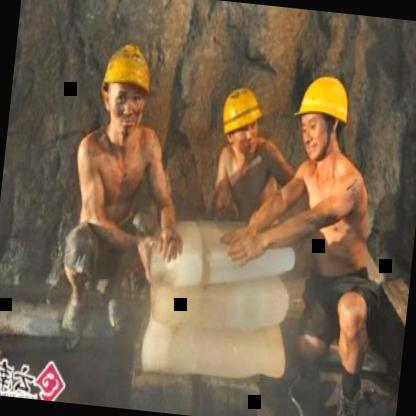helmet: (93, 36, 162, 142), (287, 65, 358, 167), (211, 80, 268, 168)
